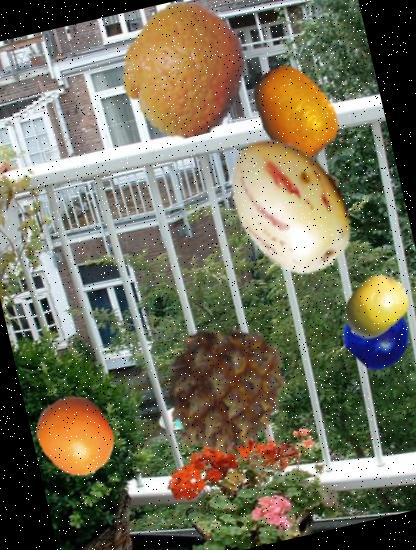Grapefruit: (25, 386, 125, 486)
Huckleberry: (335, 292, 416, 375)
Kumquats: (235, 54, 354, 172)
Mandarine: (102, 0, 263, 150)
Pepino: (204, 118, 378, 292)
Pineapple: (145, 310, 305, 470)
Pomelo: (333, 264, 416, 348)
